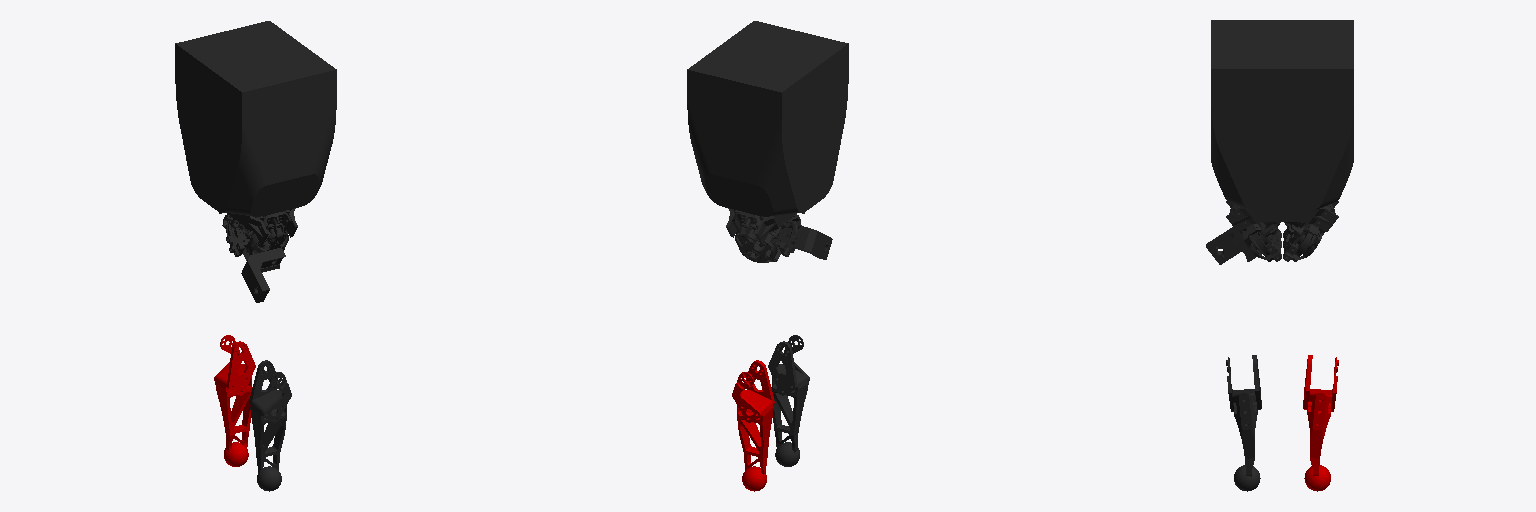
URDF robot description (bpd_bai_1):
<?xml version='1.0' encoding='utf-8'?>

<robot name="bpd_bai_1">

  <material name="black">
    <color rgba="0.19607843137254902 0.19607843137254902 0.19607843137254902 1.0" />
  </material>
  <material name="blue">
    <color rgba="0.0 0.0 0.8 1.0" />
  </material>
  <material name="green">
    <color rgba="0.0 0.8 0.0 1.0" />
  </material>
  <material name="grey">
    <color rgba="0.2 0.2 0.2 1.0" />
  </material>
  <material name="silver">
    <color rgba="0.9137254901960784 0.9137254901960784 0.8470588235294118 1.0" />
  </material>
  <material name="orange">
    <color rgba="1.0 0.4235294117647059 0.0392156862745098 1.0" />
  </material>
  <material name="brown">
    <color rgba="0.8705882352941177 0.8117647058823529 0.7647058823529411 1.0" />
  </material>
  <material name="red">
    <color rgba="0.8 0.0 0.0 1.0" />
  </material>
  <material name="white">
    <color rgba="1.0 1.0 1.0 1.0" />
  </material>
  <material name="bright_yellow">
    <color rgba="1.0 1.0 0.0 1.0" />
  </material>


    <link name="base_link">
        <inertial>
            <origin xyz="-0.020002000193325462 0.05020556265797947 0.1295822624505347" rpy="0.0 0.0 0.0" />
            <mass value="3.6762534994249294" />
            <inertia ixx="0.01837026989938485" iyy="0.0161725582414749" izz="0.01196665131207923" ixy="-4.7638297840978294e-08" iyz="8.764657300058881e-09" ixz="-2.2041363333456976e-09" />
        </inertial>
        <visual name="base_link_visual">
            <origin xyz="0.0 0.0 0.0" rpy="0.0 0.0 0.0" />
            <geometry>
                <mesh filename="meshes/base_link.stl" scale="0.001 0.001 0.001" />
            </geometry>
            <material name="black" />
        </visual>
        <collision name="base_link_collision">
            <origin xyz="0.0 0.0 0.0" rpy="0.0 0.0 0.0" />
            <geometry>
                <mesh filename="meshes/base_link.stl" scale="0.001 0.001 0.001" />
            </geometry>
        </collision>
    </link>

    <link name="hip2hip_l">
        <inertial>
            <origin xyz="-0.023543979177466912 2.2109511776946534e-09 -0.016308839593162254" rpy="0.0 -0.0 0.0" />
            <mass value="0.023901163949464187" />
            <inertia ixx="6.6268976778527606e-06" iyy="1.0070962142543097e-05" izz="6.633570624005411e-06" ixy="-7.686823996332776e-20" iyz="-3.5575383784680614e-20" ixz="-2.939067165940641e-06" />
        </inertial>
        <visual name="hip2hip_l_visual">
            <origin xyz="-0.034999999999999726 0.013500002210951304 -0.004999995716766375" rpy="1.5707963267948932 1.5707963267948883 0" />
            <geometry>
                <mesh filename="meshes/hip2hip_l.stl" scale="0.001 0.001 0.001" />
            </geometry>
            <material name="black" />
        </visual>
        <collision name="hip2hip_l_collision">
            <origin xyz="-0.034999999999999726 0.013500002210951304 -0.004999995716766375" rpy="1.5707963267948932 1.5707963267948883 0" />
            <geometry>
                <mesh filename="meshes/hip2hip_l.stl" scale="0.001 0.001 0.001" />
            </geometry>
        </collision>
    </link>

    <link name="hip2hip_r">
        <inertial>
            <origin xyz="-0.023543979177467308 -2.210951444148179e-09 -0.016308839593161616" rpy="0.0 -0.0 0.0" />
            <mass value="0.023901163949464187" />
            <inertia ixx="6.626897677852652e-06" iyy="1.0070962142543055e-05" izz="6.6335706240053605e-06" ixy="-4.0234064994579266e-20" iyz="-1.8211208365967457e-19" ixz="-2.9390671659402893e-06" />
        </inertial>
        <visual name="hip2hip_r_visual">
            <origin xyz="-0.03499999999999983 0.013499997789048552 -0.004999995716765788" rpy="1.5707963267948999 1.570796326794886 0" />
            <geometry>
                <mesh filename="meshes/hip2hip_r.stl" scale="0.001 0.001 0.001" />
            </geometry>
            <material name="black" />
        </visual>
        <collision name="hip2hip_r_collision">
            <origin xyz="-0.03499999999999983 0.013499997789048552 -0.004999995716765788" rpy="1.5707963267948999 1.570796326794886 0" />
            <geometry>
                <mesh filename="meshes/hip2hip_r.stl" scale="0.001 0.001 0.001" />
            </geometry>
        </collision>
    </link>

    <link name="leg_u_l">
        <inertial>
            <origin xyz="0.024319041662233004 -0.0646496454751469 0.006841579117157659" rpy="0.0 -3.5032461608120435e-46 0.0" />
            <mass value="0.11532664720821932" />
            <inertia ixx="0.0002913801897596332" iyy="4.2327601039219185e-05" izz="0.00028778067153029053" ixy="9.657736627810837e-06" iyz="3.146659292331174e-05" ixz="-6.429815585737678e-07" />
        </inertial>
        <visual name="leg_u_l_visual">
            <origin xyz="0.025500000000000553 3.774756152097325e-10 -1.5753792848016702e-09" rpy="1.5707963267949538 1.4835298641952142 -1.570796326794834" />
            <geometry>
                <mesh filename="meshes/leg_u_l.stl" scale="0.001 0.001 0.001" />
            </geometry>
            <material name="black" />
        </visual>
        <collision name="leg_u_l_collision">
            <origin xyz="0.025500000000000553 3.774756152097325e-10 -1.5753792848016702e-09" rpy="1.5707963267949538 1.4835298641952142 -1.570796326794834" />
            <geometry>
                <mesh filename="meshes/leg_u_l.stl" scale="0.001 0.001 0.001" />
            </geometry>
        </collision>
    </link>

    <link name="leg_u_r">
        <inertial>
            <origin xyz="0.02434098363059682 -0.06465168519071555 -0.006819787822627479" rpy="0.0 2.430865342914509e-63 0.0" />
            <mass value="0.11532645531565212" />
            <inertia ixx="0.0002913848601954921" iyy="4.235570861622738e-05" izz="0.0002877689326378825" ixy="9.759171225940135e-06" iyz="-3.1559154673410805e-05" ixz="5.718597394354968e-07" />
        </inertial>
        <visual name="leg_u_r_visual">
            <origin xyz="0.025499999999999638 3.774764323338786e-10 1.575378920648518e-09" rpy="-1.57079632679488 -1.4835298641952224 -1.5707963267949139" />
            <geometry>
                <mesh filename="meshes/leg_u_r.stl" scale="0.001 0.001 0.001" />
            </geometry>
            <material name="black" />
        </visual>
        <collision name="leg_u_r_collision">
            <origin xyz="0.025499999999999638 3.774764323338786e-10 1.575378920648518e-09" rpy="-1.57079632679488 -1.4835298641952224 -1.5707963267949139" />
            <geometry>
                <mesh filename="meshes/leg_u_r.stl" scale="0.001 0.001 0.001" />
            </geometry>
        </collision>
    </link>

    <link name="leg_l_l">
        <inertial>
            <origin xyz="-0.0765095997455327 -0.019112603459649543 -0.0004546882537168673" rpy="-1.555753819465286e-61 -0.0 0.0" />
            <mass value="0.052003070179405184" />
            <inertia ixx="9.346302784912443e-06" iyy="0.00011472380784565556" izz="0.00011316524432093949" ixy="-6.265567842431587e-07" iyz="3.199691968746945e-07" ixz="1.3659118502381659e-06" />
        </inertial>
        <visual name="leg_l_l_visual">
            <origin xyz="-0.08705242302362386 -0.018051641700010997 -0.0013639277761886748" rpy="-3.141592653589787 5.266172632562886e-15 -3.0543261909901114" />
            <geometry>
                <mesh filename="meshes/leg_l_l.stl" scale="0.001 0.001 0.001" />
            </geometry>
            <material name="red" />
        </visual>
        <collision name="leg_l_l_collision">
            <origin xyz="-0.08705242302362386 -0.018051641700010997 -0.0013639277761886748" rpy="-3.141592653589787 5.266172632562886e-15 -3.0543261909901114" />
            <geometry>
                <mesh filename="meshes/leg_l_l.stl" scale="0.001 0.001 0.001" />
            </geometry>
        </collision>
    </link>

    <link name="leg_l_r">
        <inertial>
            <origin xyz="-0.07650965646691273 0.019112627695875403 -0.00045469725533119624" rpy="1.2325951644078312e-32 -0.0 0.0" />
            <mass value="0.0520030686450209" />
            <inertia ixx="9.346303378856354e-06" iyy="0.00011472372243795205" izz="0.00011316513590964303" ixy="6.265089917826311e-07" iyz="-3.1996871943874775e-07" ixz="1.3659430473485828e-06" />
        </inertial>
        <visual name="leg_l_r_visual">
            <origin xyz="-0.06750478528373524 0.021010307687023708 -0.0013639277761872183" rpy="1.4076099419553139e-15 3.3127415384769912e-15 3.0543261909901185" />
            <geometry>
                <mesh filename="meshes/leg_l_r.stl" scale="0.001 0.001 0.001" />
            </geometry>
            <material name="black" />
        </visual>
        <collision name="leg_l_r_collision">
            <origin xyz="-0.06750478528373524 0.021010307687023708 -0.0013639277761872183" rpy="1.4076099419553139e-15 3.3127415384769912e-15 3.0543261909901185" />
            <geometry>
                <mesh filename="meshes/leg_l_r.stl" scale="0.001 0.001 0.001" />
            </geometry>
        </collision>
    </link>

    <joint name="J_HIP_L" type="revolute">
        <origin xyz="-0.02000199548842009 0.0862958239196702 -0.02636402828071825" rpy="0.959931088596928 4.163336342344274e-15 1.3373497251896179e-29" />
        <parent link="base_link" />
        <child link="hip2hip_l" />
        <axis xyz="-4.5247168257304705e-31 -3.3203468674525283e-07 0.9999997134399037" />
        <limit effort="10" lower="-0.95" upper="2.00" velocity="20" />
    </joint>

    <joint name="J_HIP_R" type="revolute">
        <origin xyz="-0.020001995488419393 0.014115263919669512 -0.02636402828071855" rpy="-0.9599310885969198 4.163336342344274e-15 1.3373497251896179e-29" />
        <parent link="base_link" />
        <child link="hip2hip_r" />
        <axis xyz="-4.5247168257304705e-31 3.3203468674525283e-07 0.9999997134399037" />
        <limit effort="10" lower="-2.00" upper="0.95" velocity="20" />
    </joint>

    <joint name="J_AB_L" type="revolute">
        <origin xyz="-0.030000000000000266 9.981406590142684e-10 -0.040999994642802094" rpy="0.6108652381979728 -6.367977660193559e-17 9.094414602384293e-17" />
        <parent link="hip2hip_l" />
        <child link="leg_u_l" />
        <axis xyz="-0.9999999999999999 5.551115123125783e-17 -7.888609052210118e-31" />
        <limit effort="10" lower="-1.75" upper="0.50" velocity="20" />
    </joint>

    <joint name="J_AB_R" type="revolute">
        <origin xyz="-0.029999999999999912 -9.981406590142684e-10 -0.040999994642802094" rpy="2.5307274153918202 -3.183988830096672e-17 -4.5472073011922686e-17" />
        <parent link="hip2hip_r" />
        <child link="leg_u_r" />
        <axis xyz="-1.0 5.551115123125783e-17 0.0" />
        <limit effort="10" lower="-0.5" upper="1.75" velocity="20" />
    </joint>

    <joint name="J_KNEE_L" type="revolute">
        <origin xyz="0.0255 -0.12954889000000003 0.01083215" rpy="-1.5707963267948968 -7.88860905221012e-31 1.5707963267948966" />
        <parent link="leg_u_l" />
        <child link="leg_l_l" />
        <axis xyz="0.08715599999999998 -0.996195 -1.164711650459871e-16" />
        <limit effort="10" lower="-2.00" upper="0.9" velocity="20" />
    </joint>

    <joint name="J_KNEE_R" type="revolute">
        <origin xyz="0.0255 -0.12954889000000003 -0.010832150000000009" rpy="-1.5707963267948968 4.379057701015035e-47 1.5707963267948966" />
        <parent link="leg_u_r" />
        <child link="leg_l_r" />
        <axis xyz="0.087156 0.9961949999999999 9.794209193669759e-17" />
        <limit effort="10" lower="-0.9" upper="2.00" velocity="20" />
    </joint>

</robot>

--- What the picture shows (computed from the rendered views, not written in the file) ---
The picture shows the robot from 3 angles, left to right: view 1: azimuth 30°, elevation 25°; view 2: azimuth 150°, elevation 25°; view 3: azimuth 270°, elevation 25°; orthographic projection.
Model bpd_bai_1 with 7 links and 6 joints (6 revolute), rooted at base_link, posed all joints at 0.
Visible links, largest first — view 1: base_link, leg_l_r, leg_l_l, hip2hip_r; view 2: base_link, leg_l_l, leg_l_r, hip2hip_r; view 3: base_link, leg_l_l, leg_l_r, hip2hip_r.
Link boxes in pixels (x1,y1,x2,y2): base_link: (175,21,336,260); leg_l_r: (249,360,291,491); leg_l_l: (214,335,255,466); hip2hip_r: (241,247,285,302); base_link: (687,21,848,262); leg_l_l: (732,360,774,491); leg_l_r: (768,335,809,466); hip2hip_r: (794,226,832,259); base_link: (1211,20,1353,261); leg_l_l: (1303,355,1338,491); leg_l_r: (1226,355,1261,491); hip2hip_r: (1206,227,1256,264).
Size in the robot's own frame: 0.13 by 0.1656 by 0.5538 metres.
4 mesh visuals loaded from 7 distinct referenced files (4 binary STL); not drawn: 3 (reference not matched to a file when rendering).